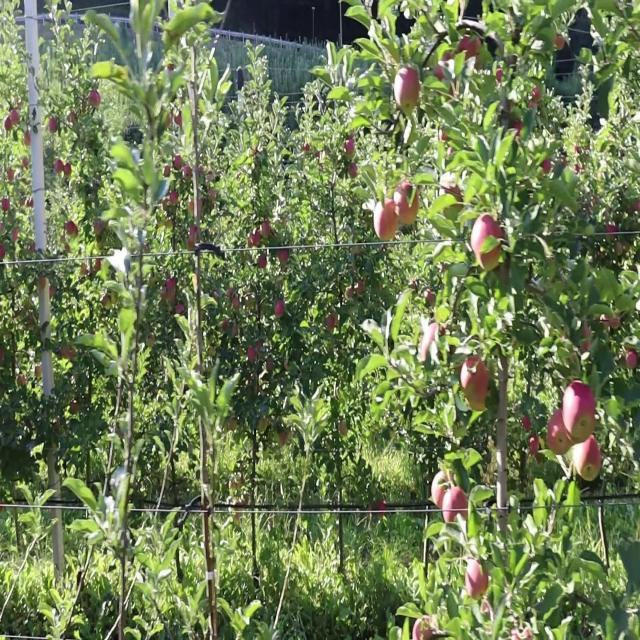apple: (472, 213, 506, 270), (564, 383, 597, 441), (460, 355, 491, 400), (464, 362, 490, 412), (548, 412, 572, 457), (396, 184, 420, 228), (580, 440, 604, 484), (376, 199, 400, 242), (396, 71, 421, 112), (468, 561, 491, 601), (444, 490, 469, 526), (424, 327, 447, 363), (432, 476, 451, 510), (420, 327, 436, 363), (460, 35, 482, 60), (465, 391, 488, 412), (444, 184, 464, 206), (440, 127, 454, 156), (416, 618, 435, 639), (580, 327, 592, 356), (528, 85, 542, 108), (528, 433, 540, 457), (344, 135, 356, 156), (628, 350, 640, 370), (168, 113, 184, 128), (436, 63, 447, 84), (512, 120, 524, 139), (552, 35, 565, 52), (252, 227, 262, 247), (328, 312, 337, 334), (248, 234, 260, 249), (276, 298, 284, 320), (608, 220, 619, 236), (68, 220, 79, 235), (228, 419, 239, 434), (352, 284, 364, 297), (248, 348, 256, 363), (64, 163, 72, 178), (280, 248, 288, 263), (172, 191, 180, 206), (280, 433, 288, 448), (168, 277, 176, 292), (40, 277, 48, 292), (264, 220, 272, 235), (176, 156, 184, 171), (92, 92, 100, 107), (184, 163, 192, 178), (260, 255, 268, 270), (168, 291, 176, 306), (164, 163, 172, 178), (428, 291, 436, 306), (524, 419, 532, 434), (544, 163, 552, 178), (496, 71, 504, 85), (352, 163, 359, 178), (232, 298, 240, 311), (24, 135, 32, 148), (192, 227, 200, 240), (208, 191, 216, 204), (4, 199, 11, 213), (52, 120, 58, 135), (56, 163, 64, 174), (12, 113, 20, 124), (20, 376, 27, 388), (340, 426, 348, 436), (96, 220, 101, 235), (0, 248, 6, 260), (232, 327, 240, 336), (224, 319, 229, 332), (164, 199, 169, 212), (64, 348, 69, 361), (188, 241, 196, 249), (176, 305, 184, 313), (36, 369, 43, 377), (56, 419, 60, 432), (72, 405, 79, 412), (8, 120, 12, 132), (104, 298, 110, 306), (268, 362, 272, 373), (200, 199, 204, 210), (96, 263, 101, 270), (260, 341, 264, 348), (85, 271, 87, 276)
